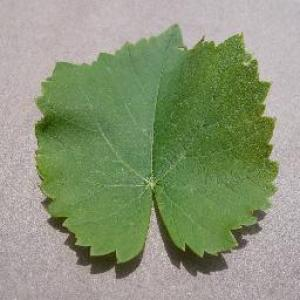Folha: (33, 22, 279, 265)
